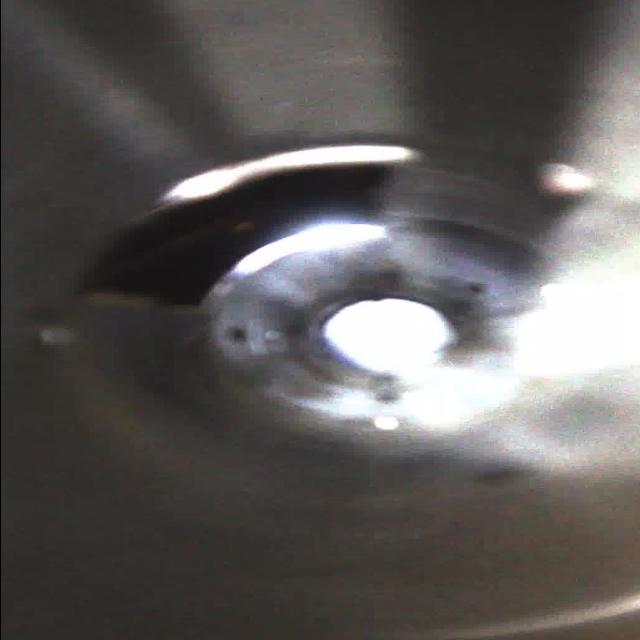hole: (66, 134, 428, 314)
